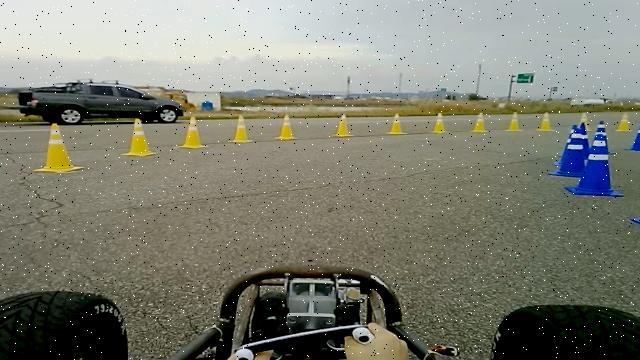blue cone: (564, 138, 625, 197), (546, 123, 591, 180), (591, 120, 618, 154), (625, 118, 640, 152), (628, 209, 640, 231)
yellow cone: (33, 122, 85, 172), (121, 117, 159, 156), (176, 115, 208, 149), (228, 114, 255, 143), (275, 114, 299, 140), (332, 113, 354, 137), (386, 112, 408, 134), (470, 112, 490, 132), (429, 112, 448, 133), (505, 111, 524, 131)
